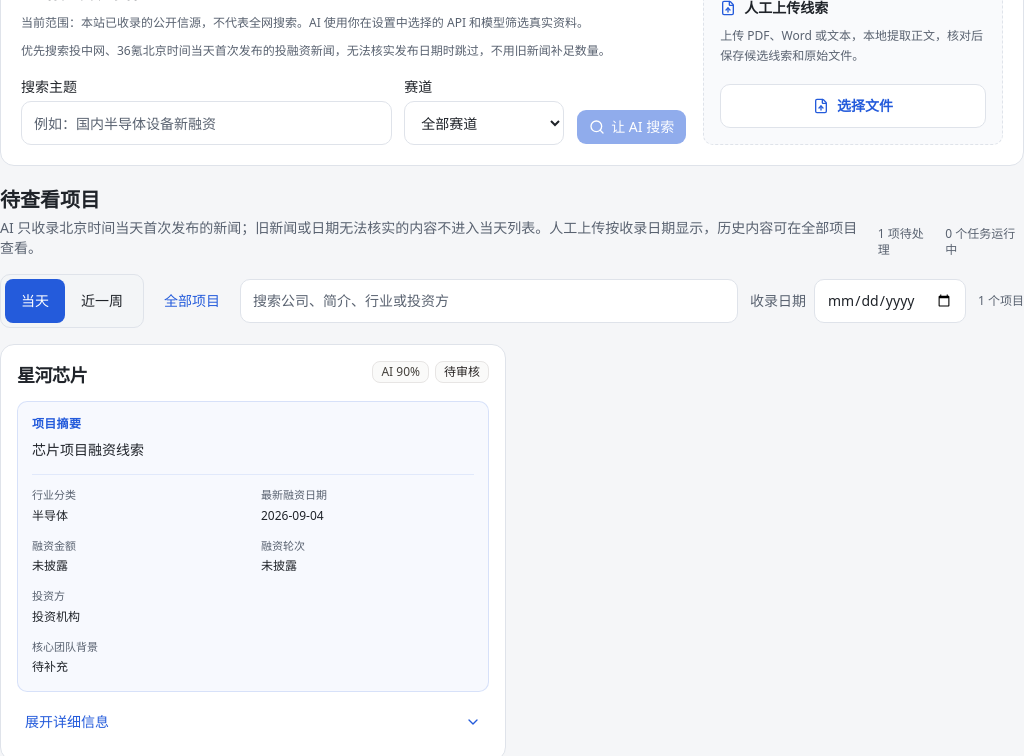
Test: combines colleague distribution and joining the same project in one confirmation
The image size is (1024, 756).
(page scrolled)
Step 1. Click the button with aria-label "查看项目详情" → (67, 722), box [17,700,489,744]
(page scrolled)
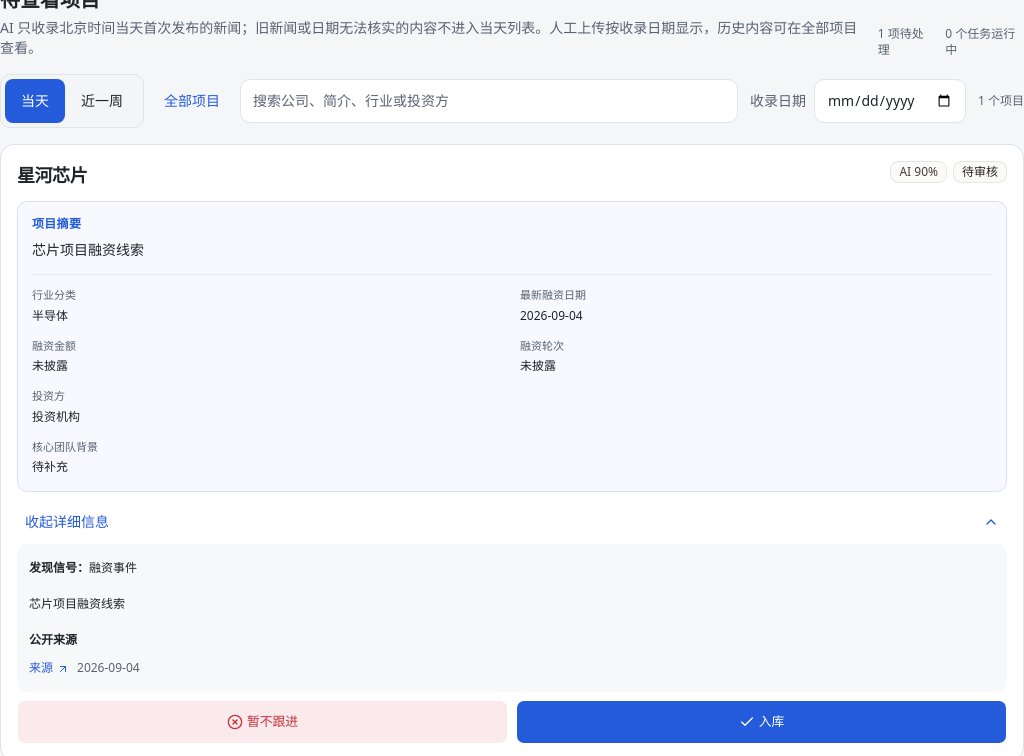
Step 2. Click the button "入库" → (762, 722), box [516,700,1007,744]
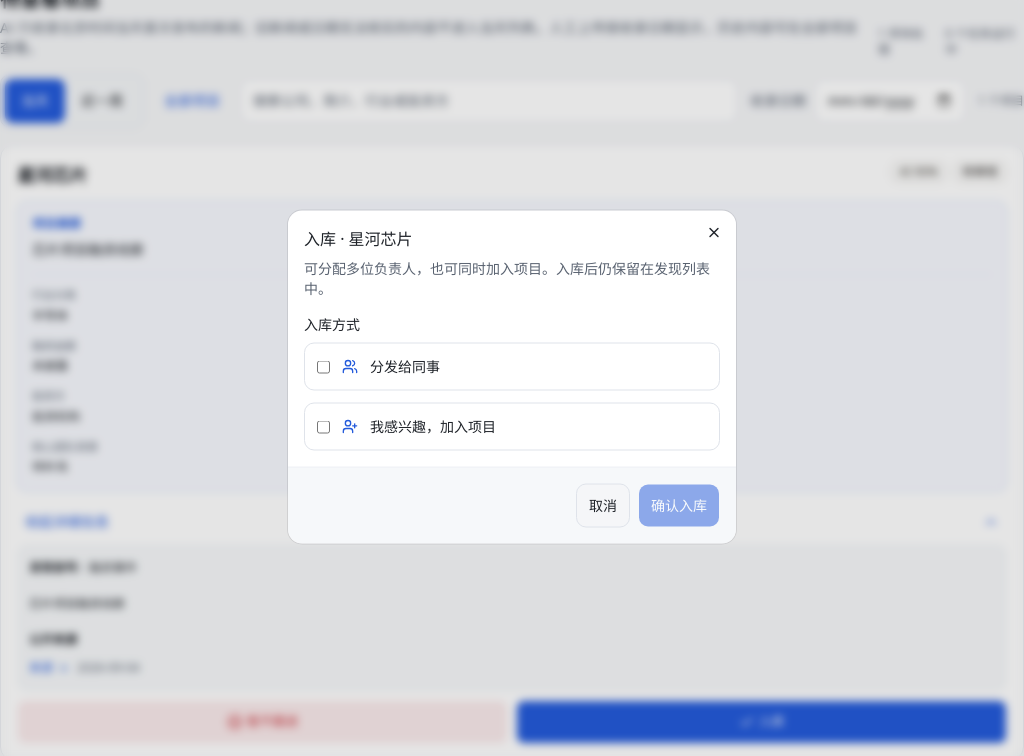
Step 3. Click the checkbox labelled "分发给同事" → (324, 366), box [317,360,330,373]
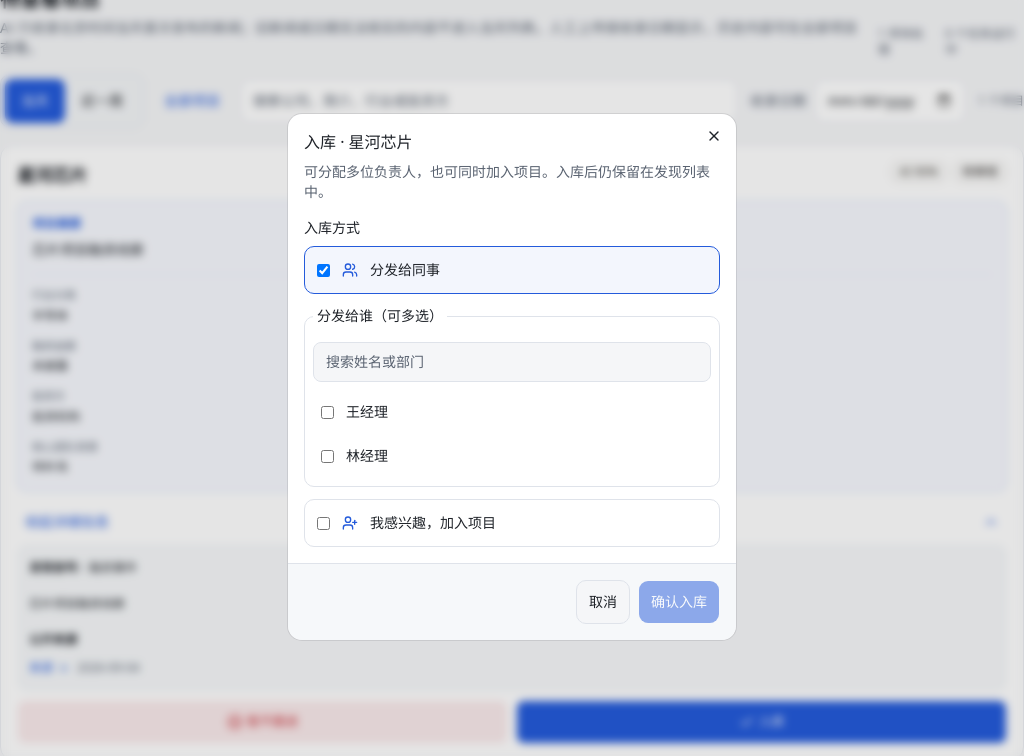
Step 4. Click the checkbox labelled "林经理" → (328, 456), box [321,450,334,462]
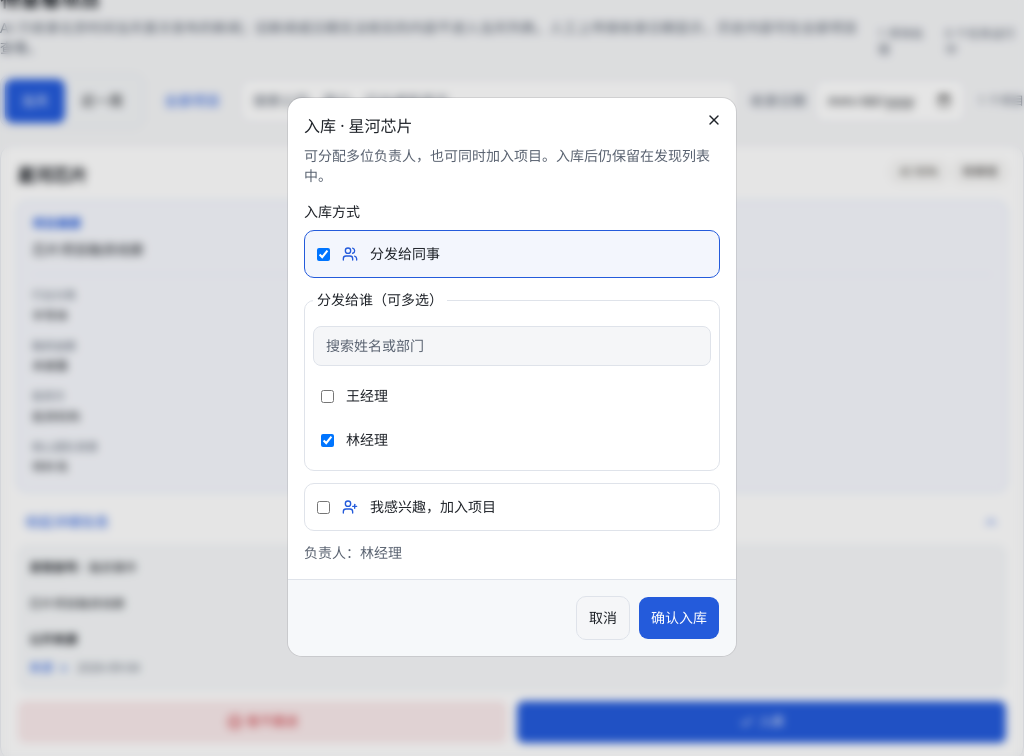
Step 5. Click the checkbox labelled "我感兴趣，加入项目" → (324, 507), box [317,500,330,514]
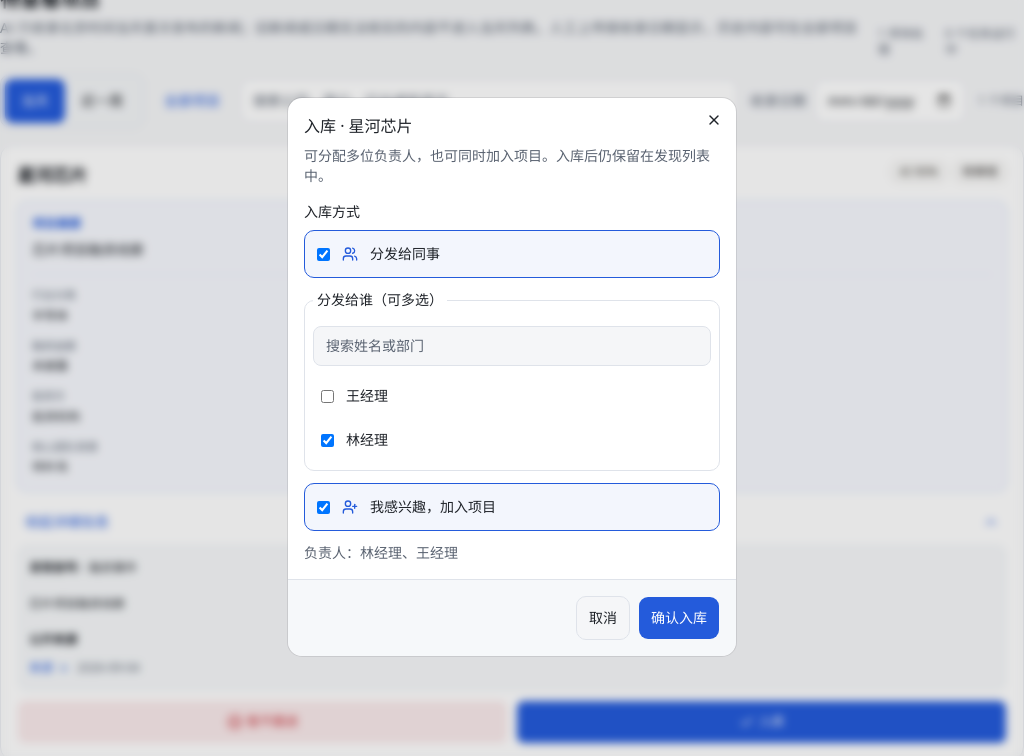
Step 6. Click the button "确认入库" → (679, 618), box [638,596,720,640]
(page scrolled)
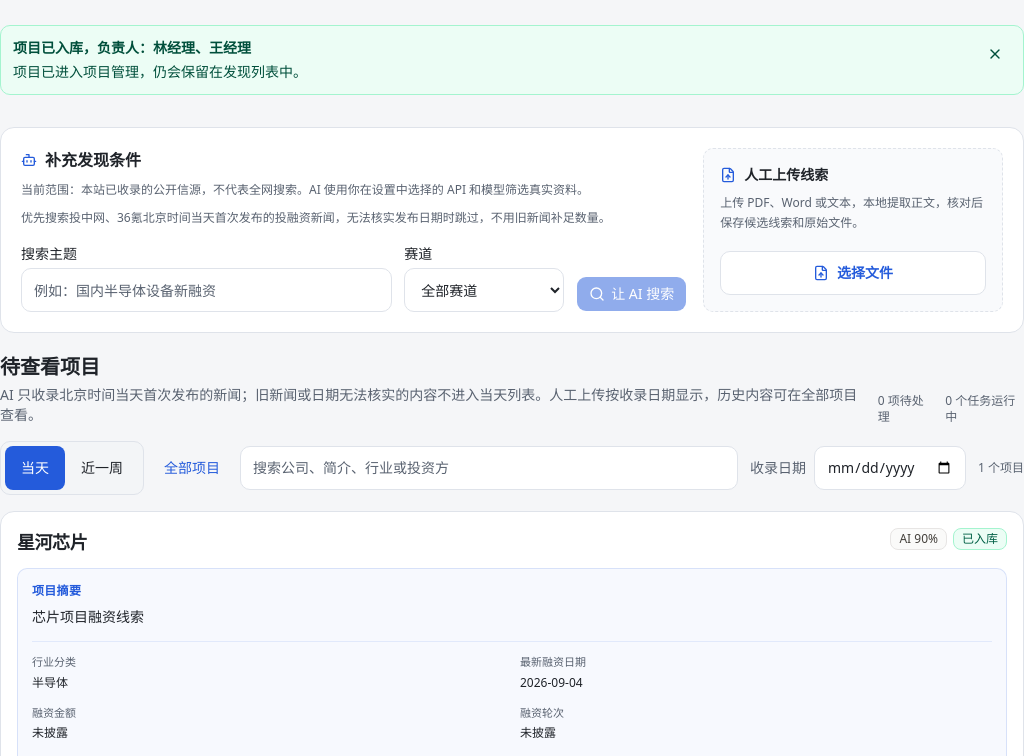
Check: the text "项目已入库，负责人：林经理、王经理" is shown, box [13,38,251,57]
